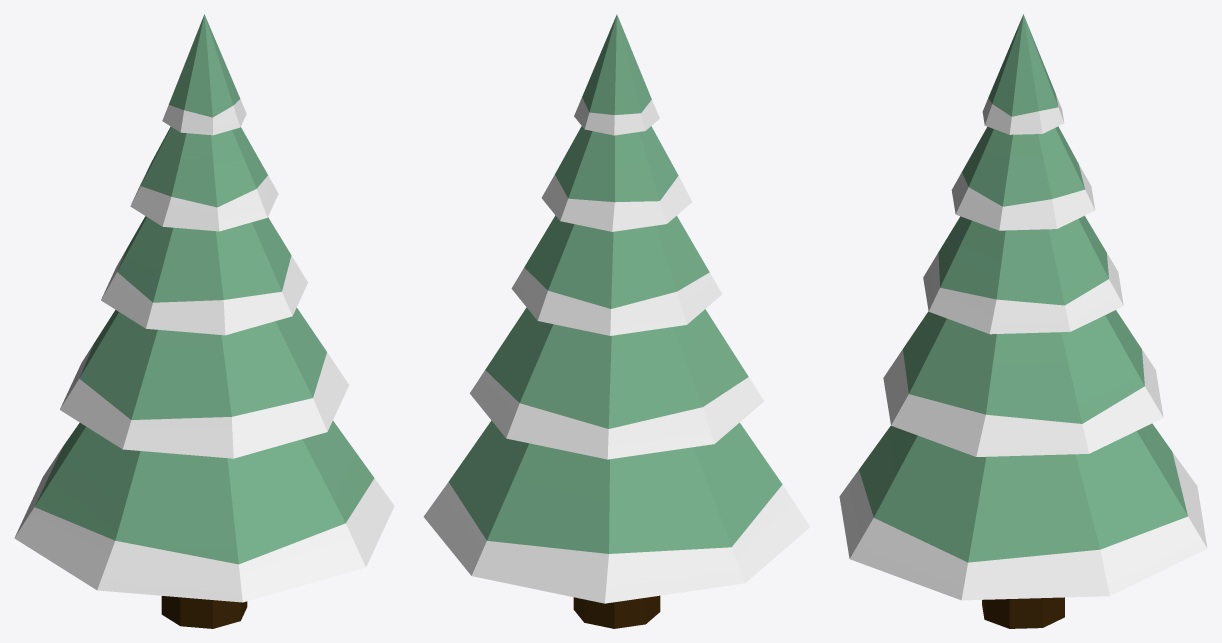
File: green_tree_snow.glb
3 renders of one model, left to right at view 1: azimuth 30°, elevation 25°; view 2: azimuth 150°, elevation 25°; view 3: azimuth 270°, elevation 25°, orthographic.
Parts seen in each view (by area): view 1: Tree03_GreenWhite1_0, Tree03_White1_0, Tree03_Brown06_0; view 2: Tree03_GreenWhite1_0, Tree03_White1_0, Tree03_Brown06_0; view 3: Tree03_GreenWhite1_0, Tree03_White1_0, Tree03_Brown06_0.
Part boxes in pixels (x1=…): Tree03_GreenWhite1_0: x1=34, y1=14, x2=374, y2=564; Tree03_White1_0: x1=14, y1=99, x2=394, y2=602; Tree03_Brown06_0: x1=161, y1=596, x2=247, y2=628; Tree03_GreenWhite1_0: x1=448, y1=14, x2=782, y2=553; Tree03_White1_0: x1=423, y1=97, x2=809, y2=603; Tree03_Brown06_0: x1=573, y1=595, x2=660, y2=628; Tree03_GreenWhite1_0: x1=859, y1=14, x2=1187, y2=562; Tree03_White1_0: x1=839, y1=95, x2=1207, y2=600; Tree03_Brown06_0: x1=982, y1=597, x2=1064, y2=628.
Size of the model in its own units: 4.36 by 7.8 by 4.36.
